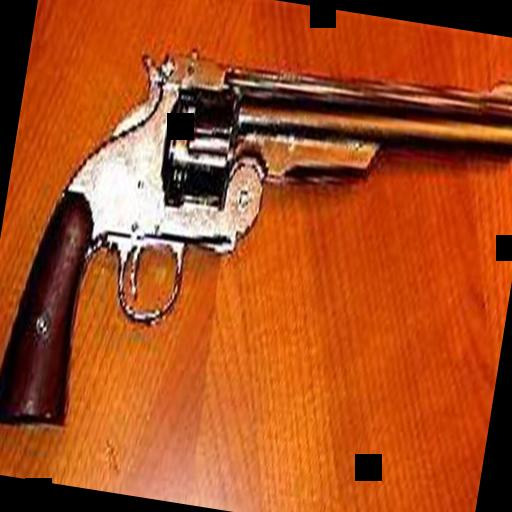Handgun: (0, 3, 512, 495)
